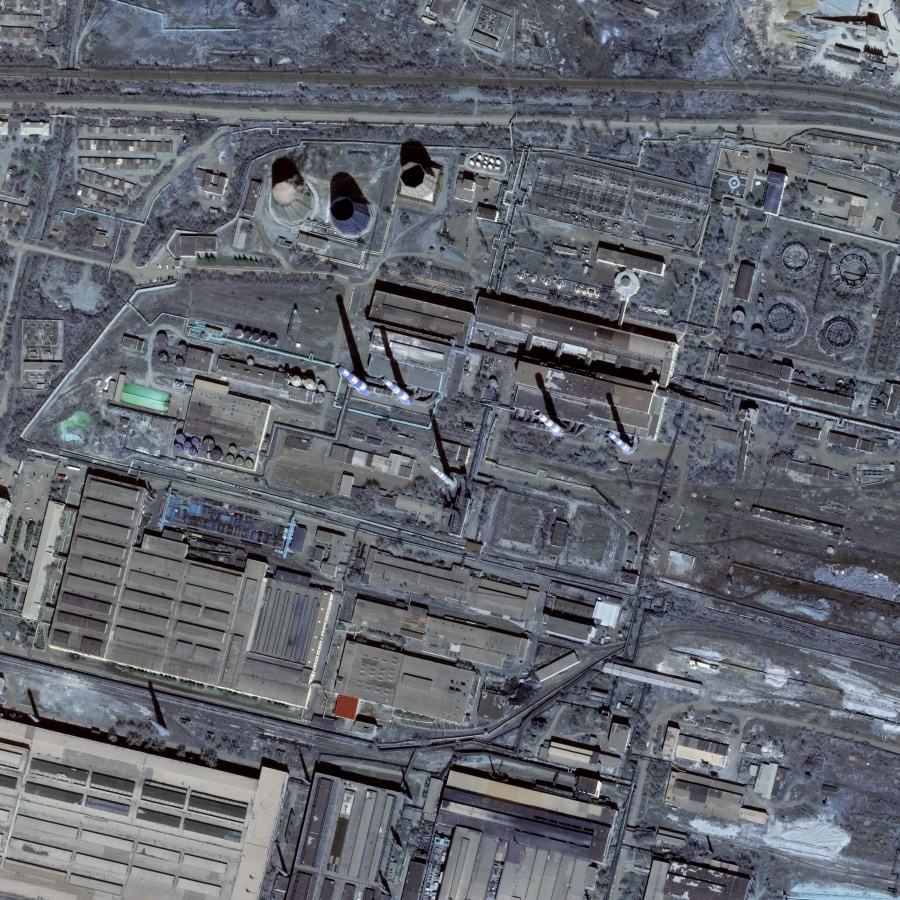PowerPlant: (258, 123, 672, 497)
